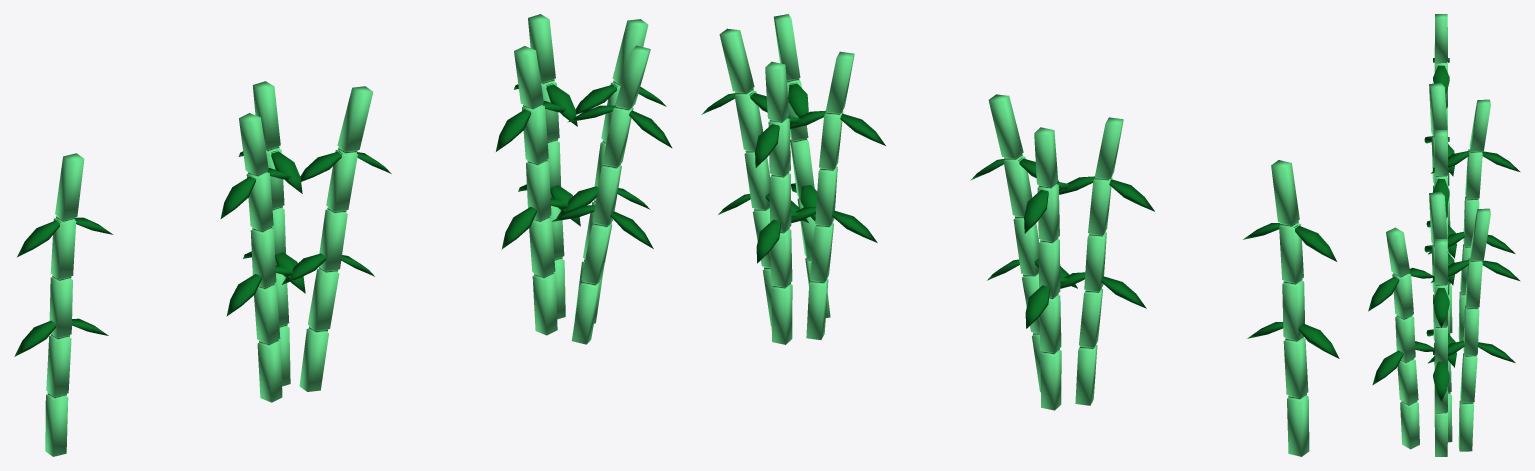
The model's file is Trees_02.fbx.
The picture shows the model from 3 angles, left to right: view 1: azimuth 30°, elevation 25°; view 2: azimuth 150°, elevation 25°; view 3: azimuth 270°, elevation 25°; orthographic projection. The views are drawn at different scales.
Parts seen in each view (by area): view 1: Bamboo_Quads, Bamboo_Trios, Bamboo_Single_01; view 2: Bamboo_Quads, Bamboo_Trios, Bamboo_Single_01; view 3: Bamboo_Quads, Bamboo_Trios, Bamboo_Single_01.
Part boxes in pixels (box(x1,y1,x2,y2)): Bamboo_Quads: box(496, 14, 672, 344); Bamboo_Trios: box(220, 81, 391, 402); Bamboo_Single_01: box(14, 153, 113, 456); Bamboo_Quads: box(701, 14, 885, 344); Bamboo_Trios: box(970, 94, 1154, 410); Bamboo_Single_01: box(1243, 160, 1339, 456); Bamboo_Quads: box(1368, 191, 1520, 456); Bamboo_Trios: box(1424, 82, 1520, 341); Bamboo_Single_01: box(1433, 14, 1449, 141).
Size of the model in its own units: 1430 by 608 by 357.
